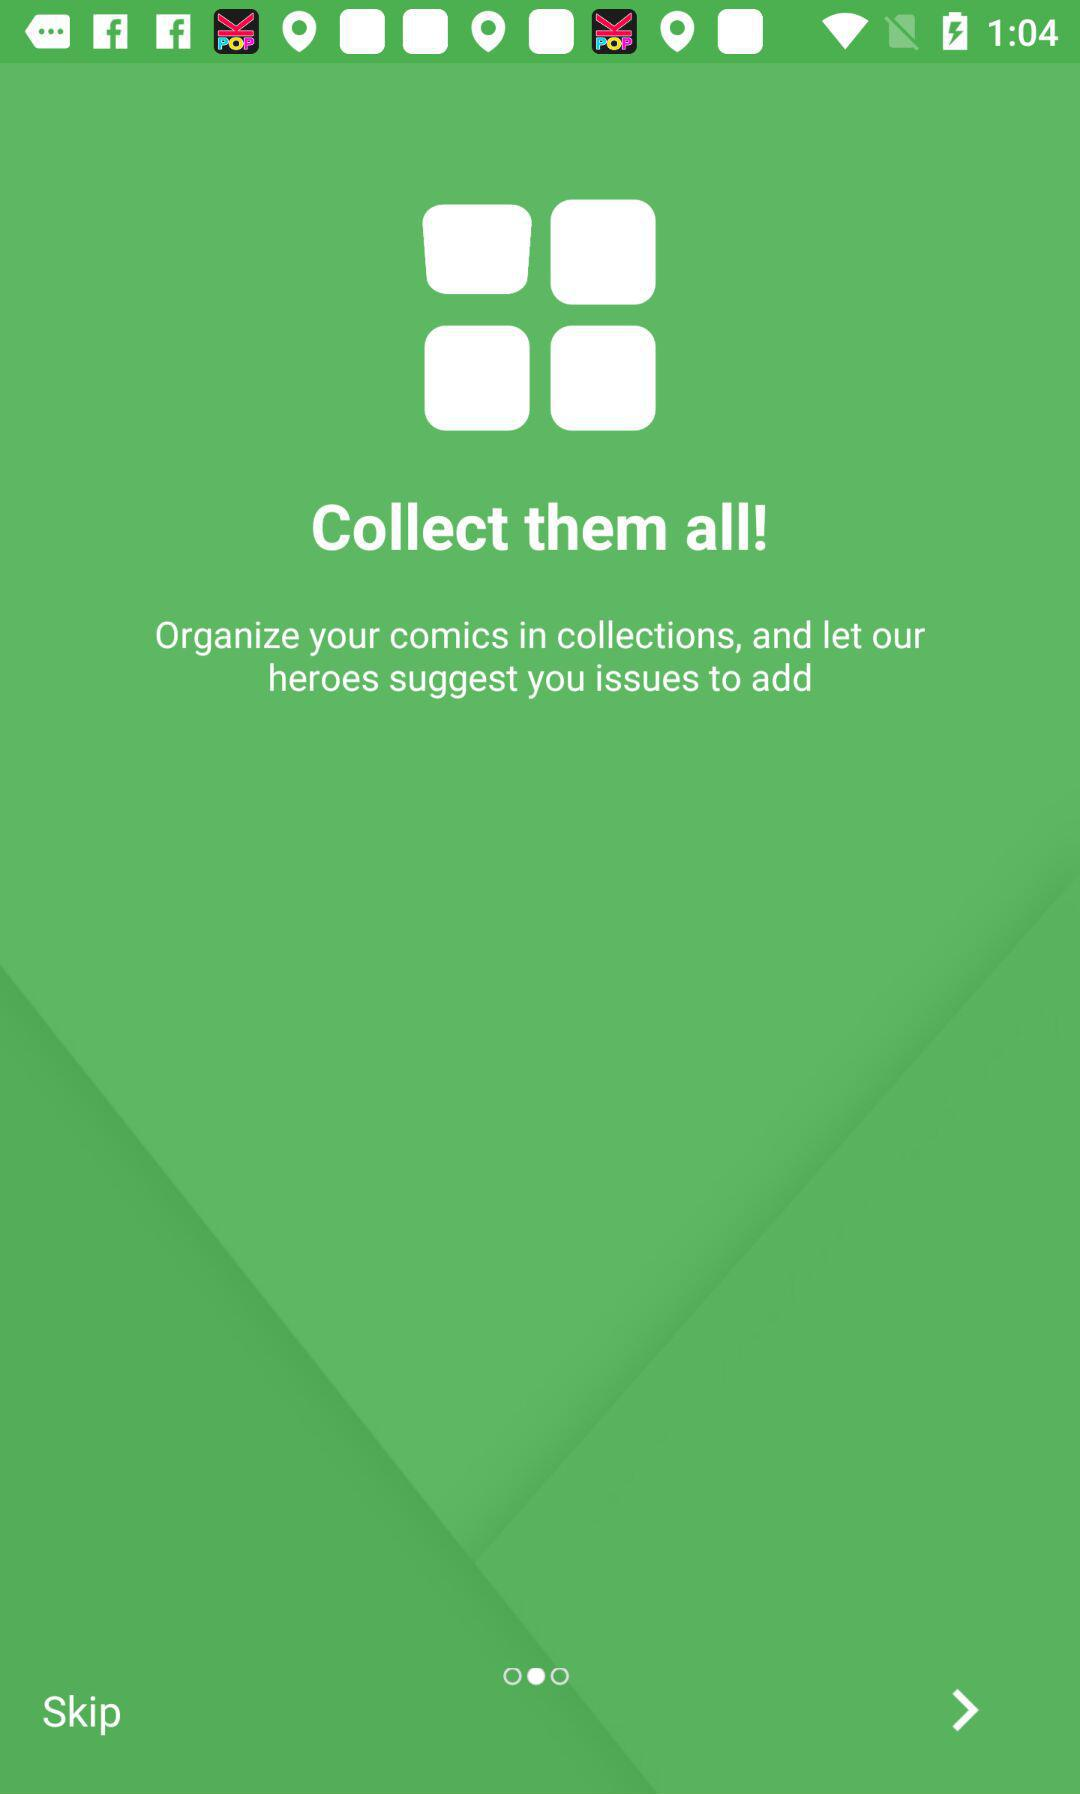Icon: (951, 1688, 980, 1732)
Image: (421, 199, 659, 434)
PageIndicator: (502, 1666, 571, 1688)
Text: (155, 618, 928, 702), (313, 501, 767, 554), (41, 1691, 126, 1738)
UpperTaskBar: (1, 1, 1080, 64)
